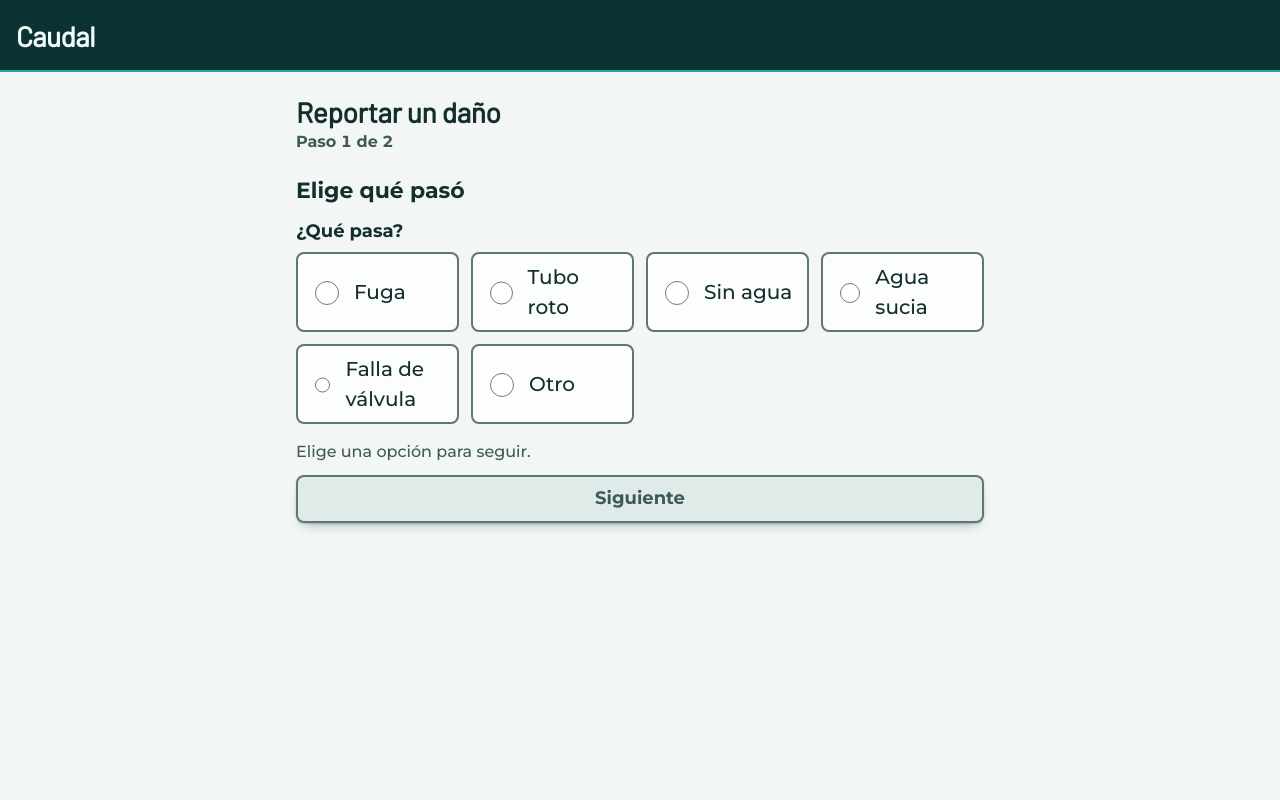
DamageReportPage (S05, without login) › takes the report in two short steps, and keeps the category when the person goes back
The image size is (1280, 800).
Click the radio button labelled "Fuga" at (327, 293), box [315, 281, 339, 305]
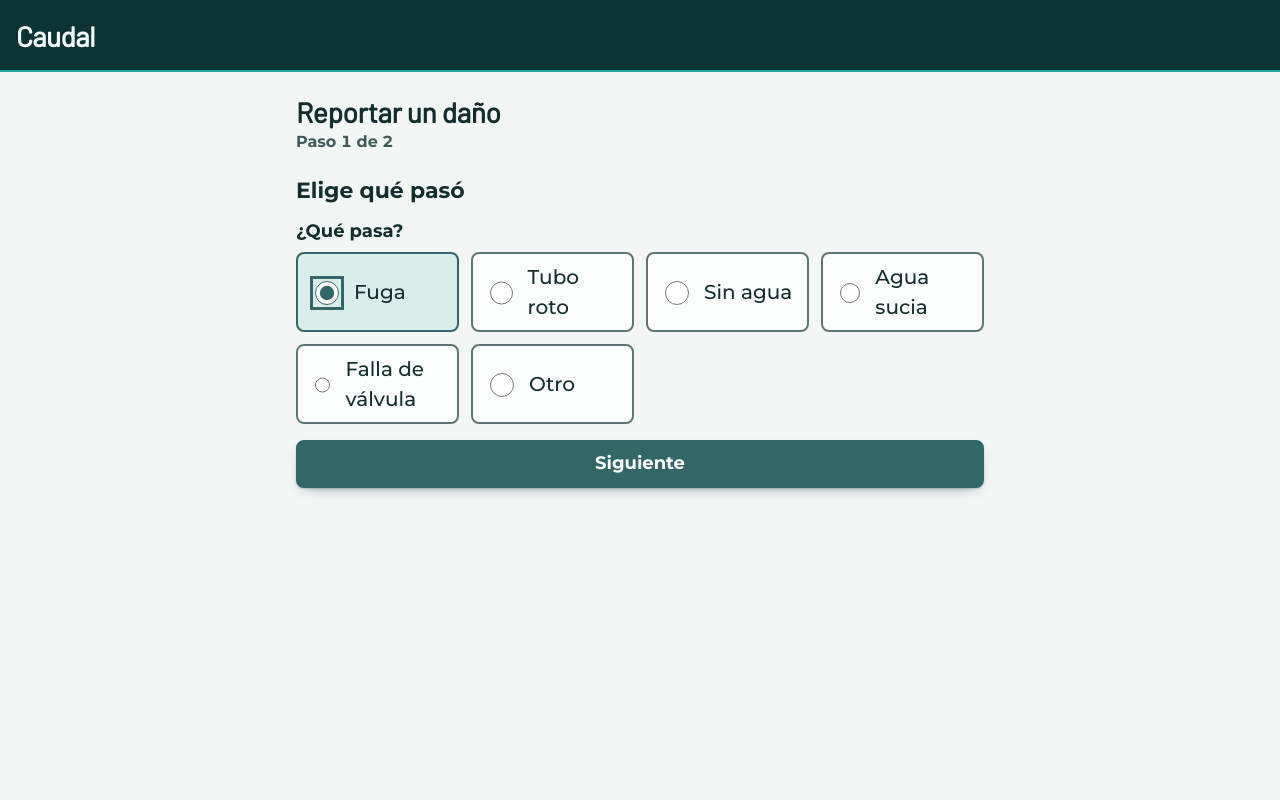
Click the button "Siguiente" at (640, 464), box [296, 440, 984, 488]
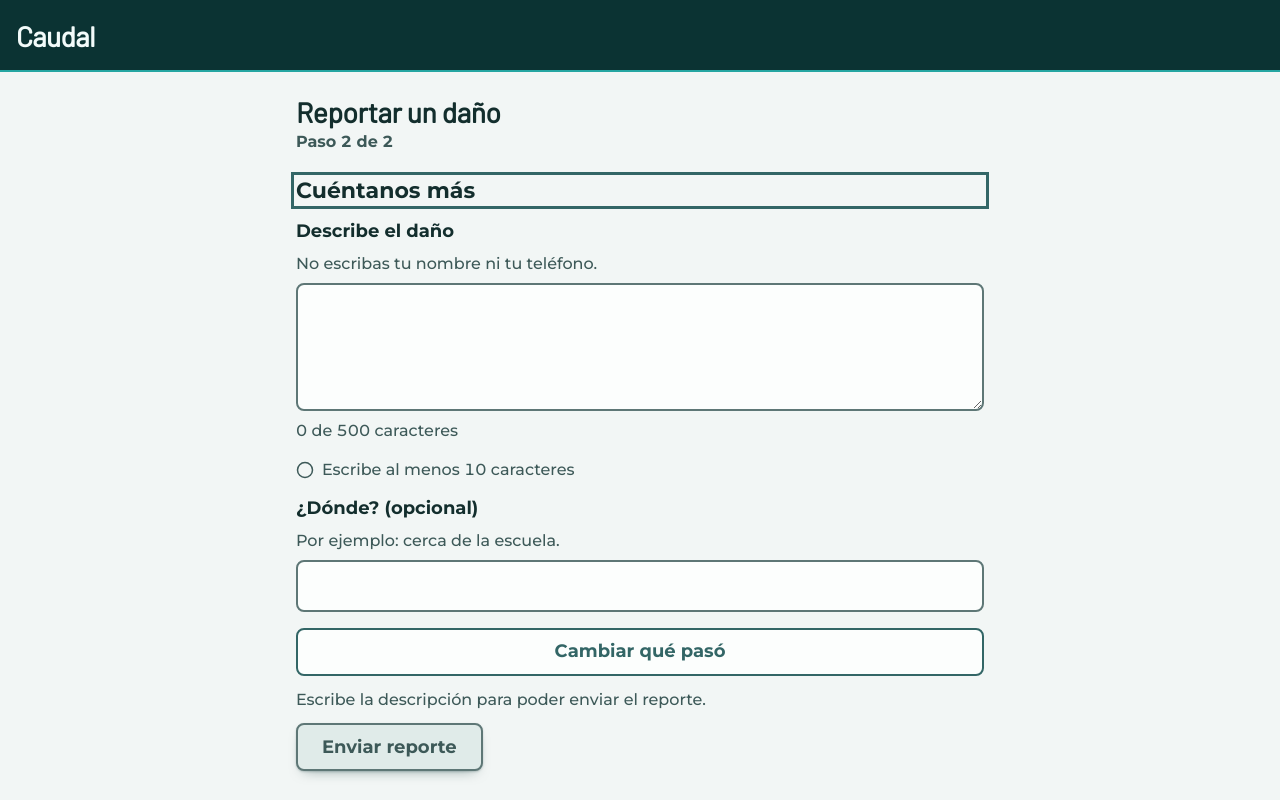
Result: the text "Paso 2 de 2" is shown at [296, 132, 394, 151]
Click the button "Cambiar qué pasó" at (640, 652), box [296, 628, 984, 676]
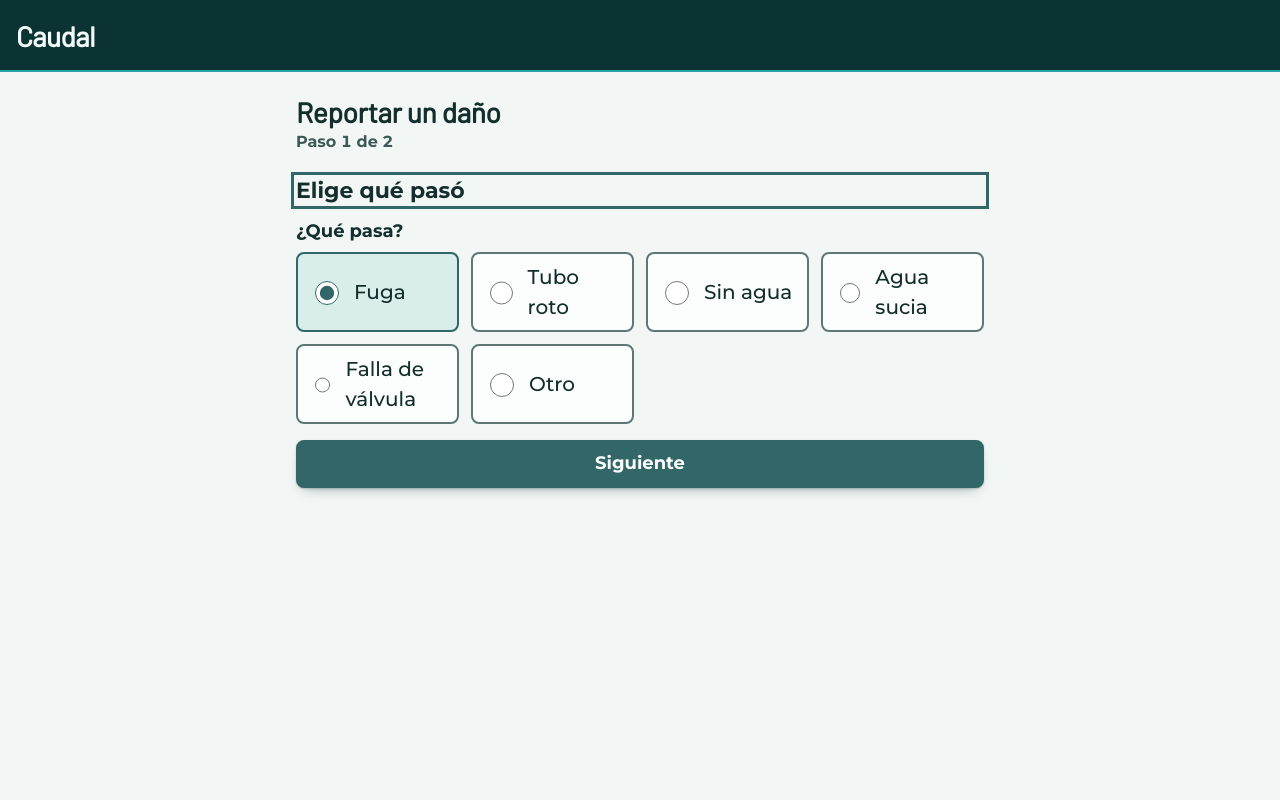
Result: the text "Paso 1 de 2" is shown at [296, 132, 394, 151]
Result: the radio button labelled "Fuga" is checked at [315, 281, 339, 305]
Result: the button "Siguiente" is enabled at [296, 440, 984, 488]
